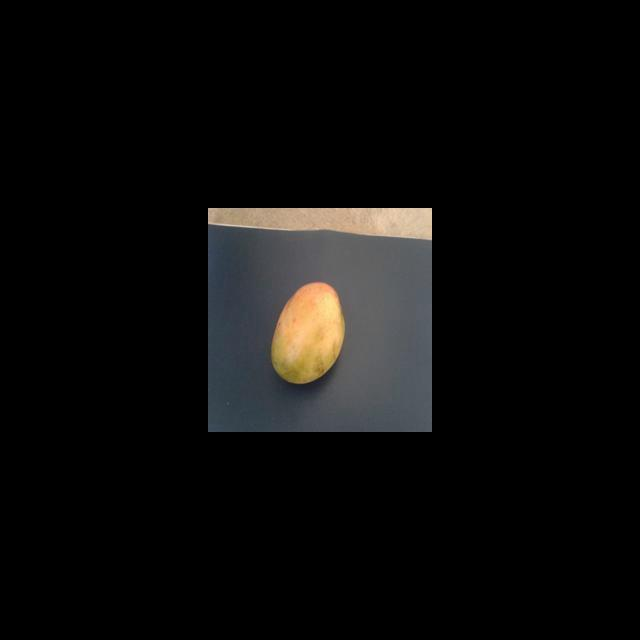mango: (270, 281, 345, 384)
